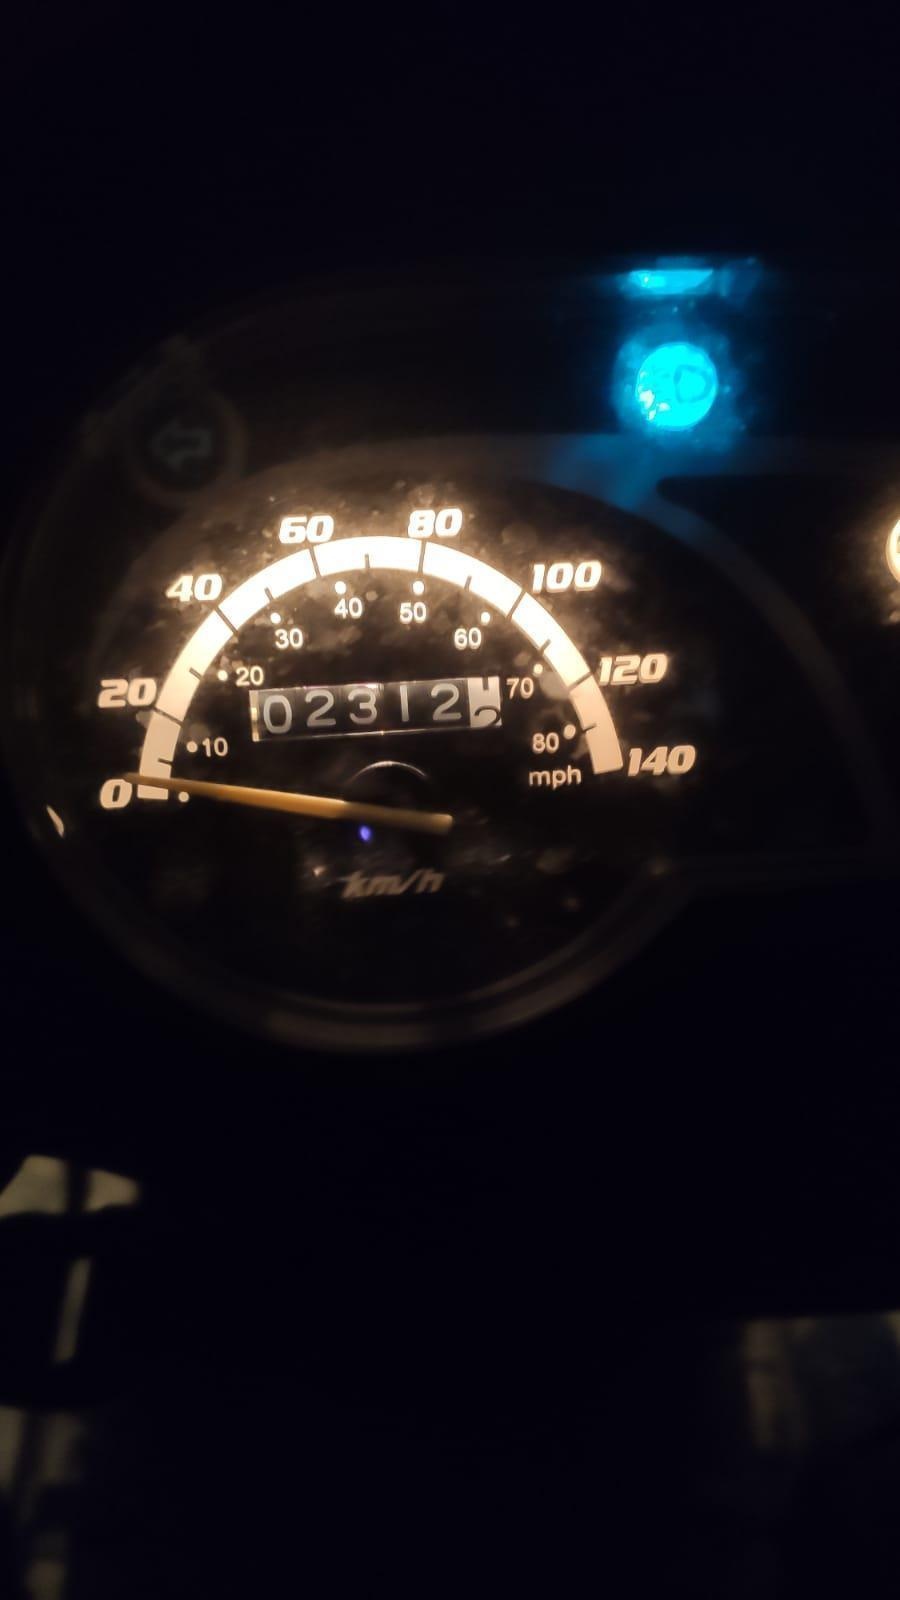0: (260, 691, 295, 734), (249, 663, 266, 687)
1: (393, 679, 416, 726)
2: (426, 680, 464, 723), (302, 686, 338, 730), (471, 701, 505, 732)
3: (345, 685, 379, 725)
odometer: (245, 671, 507, 745)
